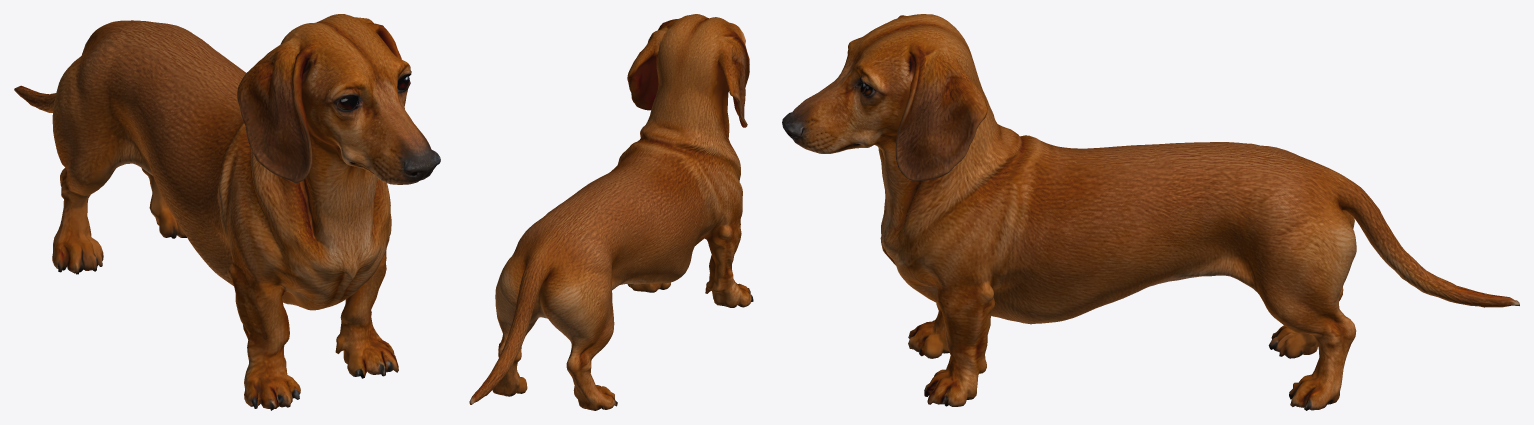
Rendered from dachshund.glb.
3 renders of one model, left to right at view 1: azimuth 30°, elevation 25°; view 2: azimuth 150°, elevation 25°; view 3: azimuth 270°, elevation 25°, orthographic. The views are drawn at different scales.
Parts seen in each view (by area): view 1: tripo_node_8f204778-51f2-4256-9093-99dd1e1c3c2d; view 2: tripo_node_8f204778-51f2-4256-9093-99dd1e1c3c2d; view 3: tripo_node_8f204778-51f2-4256-9093-99dd1e1c3c2d.
Boxes of the visible parts, x1,y1,x2,y2 form: tripo_node_8f204778-51f2-4256-9093-99dd1e1c3c2d: [14, 14, 440, 410]; tripo_node_8f204778-51f2-4256-9093-99dd1e1c3c2d: [469, 14, 753, 410]; tripo_node_8f204778-51f2-4256-9093-99dd1e1c3c2d: [782, 14, 1519, 410].
Bounding box in the file's own units: 0.2391 × 0.5304 × 1.
Materials: 1 (1 with a texture image).
